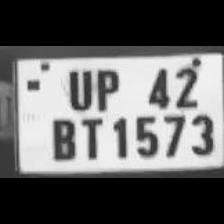1: (106, 112, 130, 160)
2: (170, 61, 202, 108)
3: (185, 108, 215, 158)
4: (140, 62, 172, 108)
5: (130, 110, 160, 158)
7: (160, 110, 186, 158)
B: (48, 113, 78, 161)
P: (92, 66, 122, 110)
T: (76, 114, 106, 160)
U: (60, 66, 94, 110)
